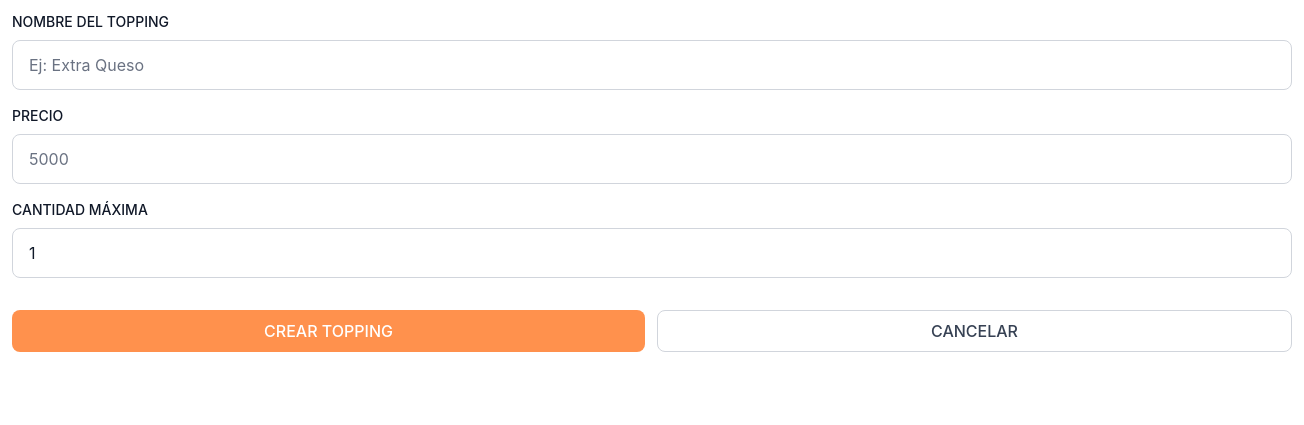
CreateToppingForm › should validate that price is greater than 0
Type "0" into the number field labelled "PRECIO".
click(652, 159); type("0")  # box [12,134,1292,184]
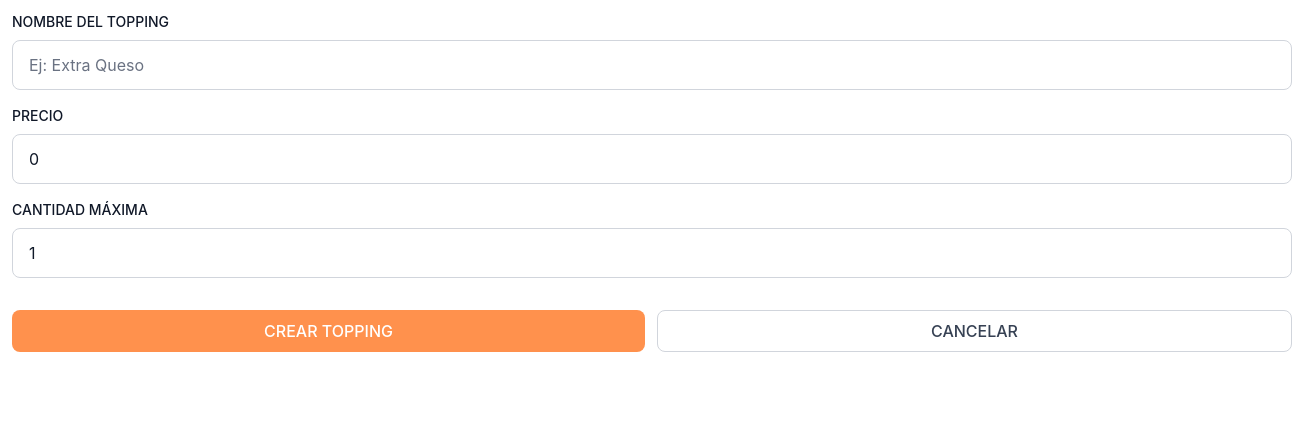
Click the button "CREAR TOPPING".
click(328, 331)  # box [12,310,645,352]
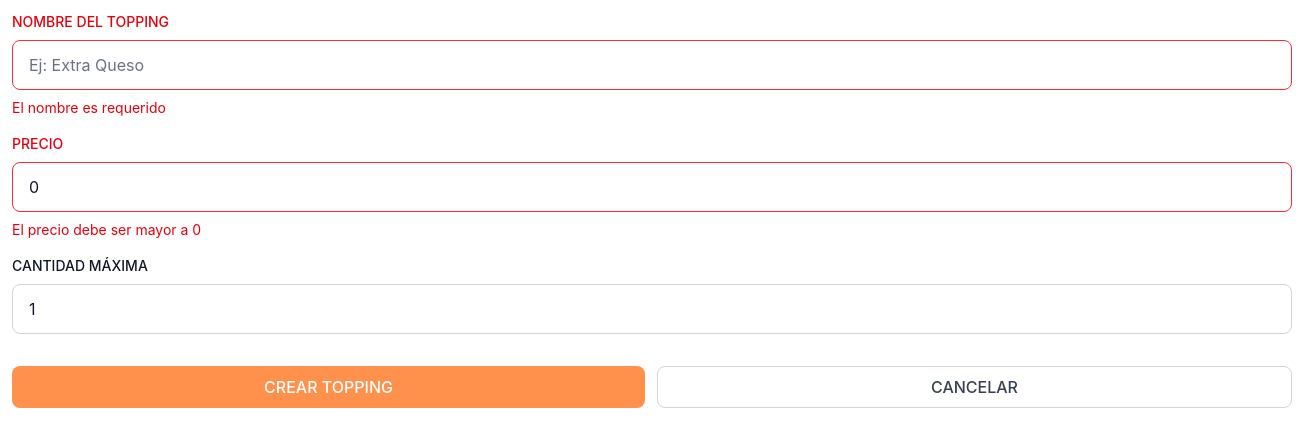
Check: the text "El precio debe ser mayor a 0" is shown, box [12,221,201,238]
